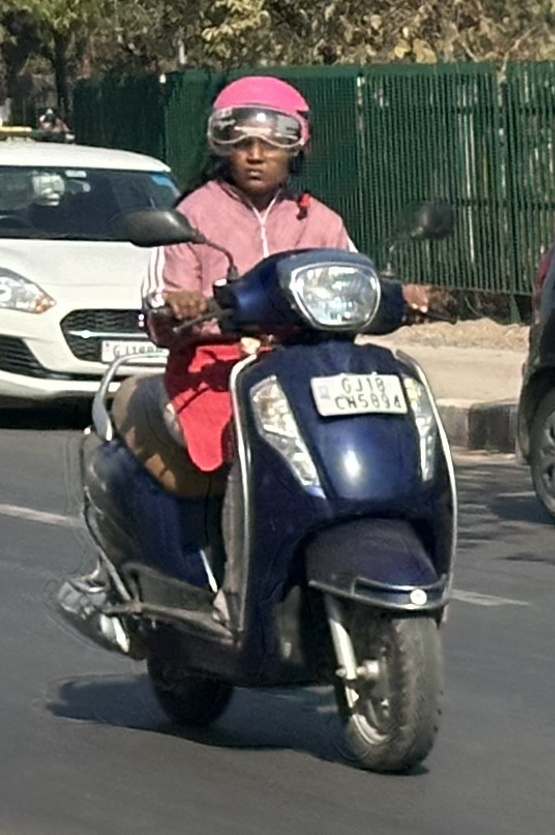BikeWithRider: (36, 66, 476, 782)
NoHelmet: (190, 69, 325, 196)
